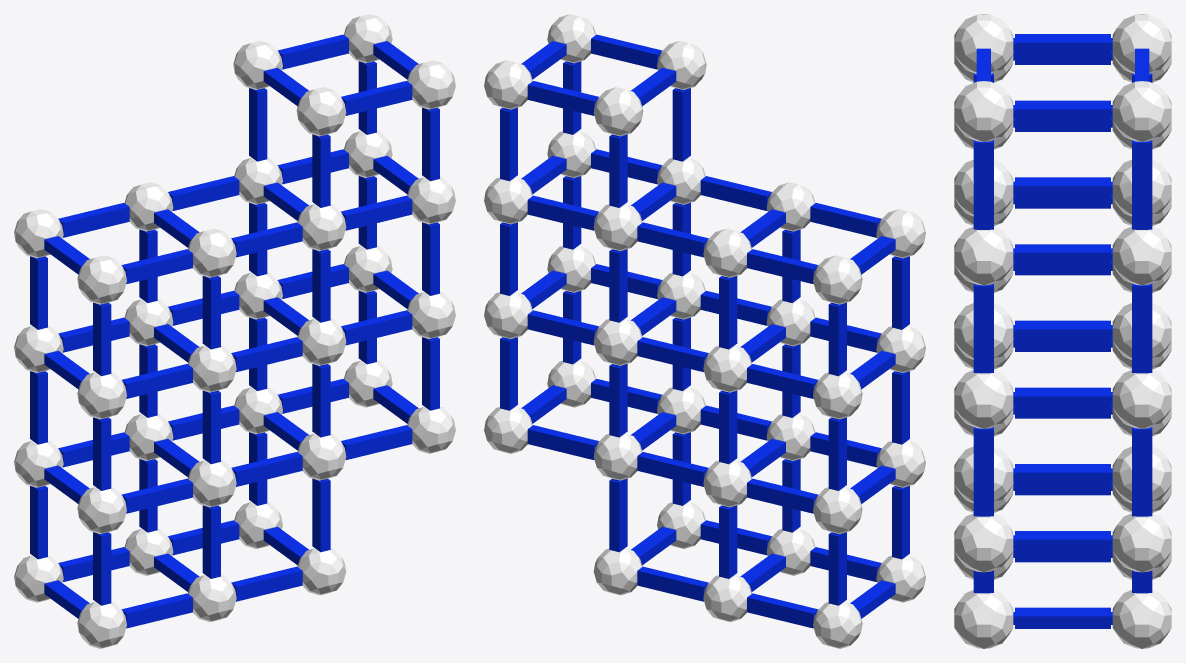
The model's file is squirrel_out.obj.
The picture shows the model from 3 angles, left to right: view 1: azimuth 30°, elevation 25°; view 2: azimuth 150°, elevation 25°; view 3: azimuth 270°, elevation 25°; orthographic projection. The views are drawn at different scales.
Size of the model in its own units: 160 by 207 by 65.
